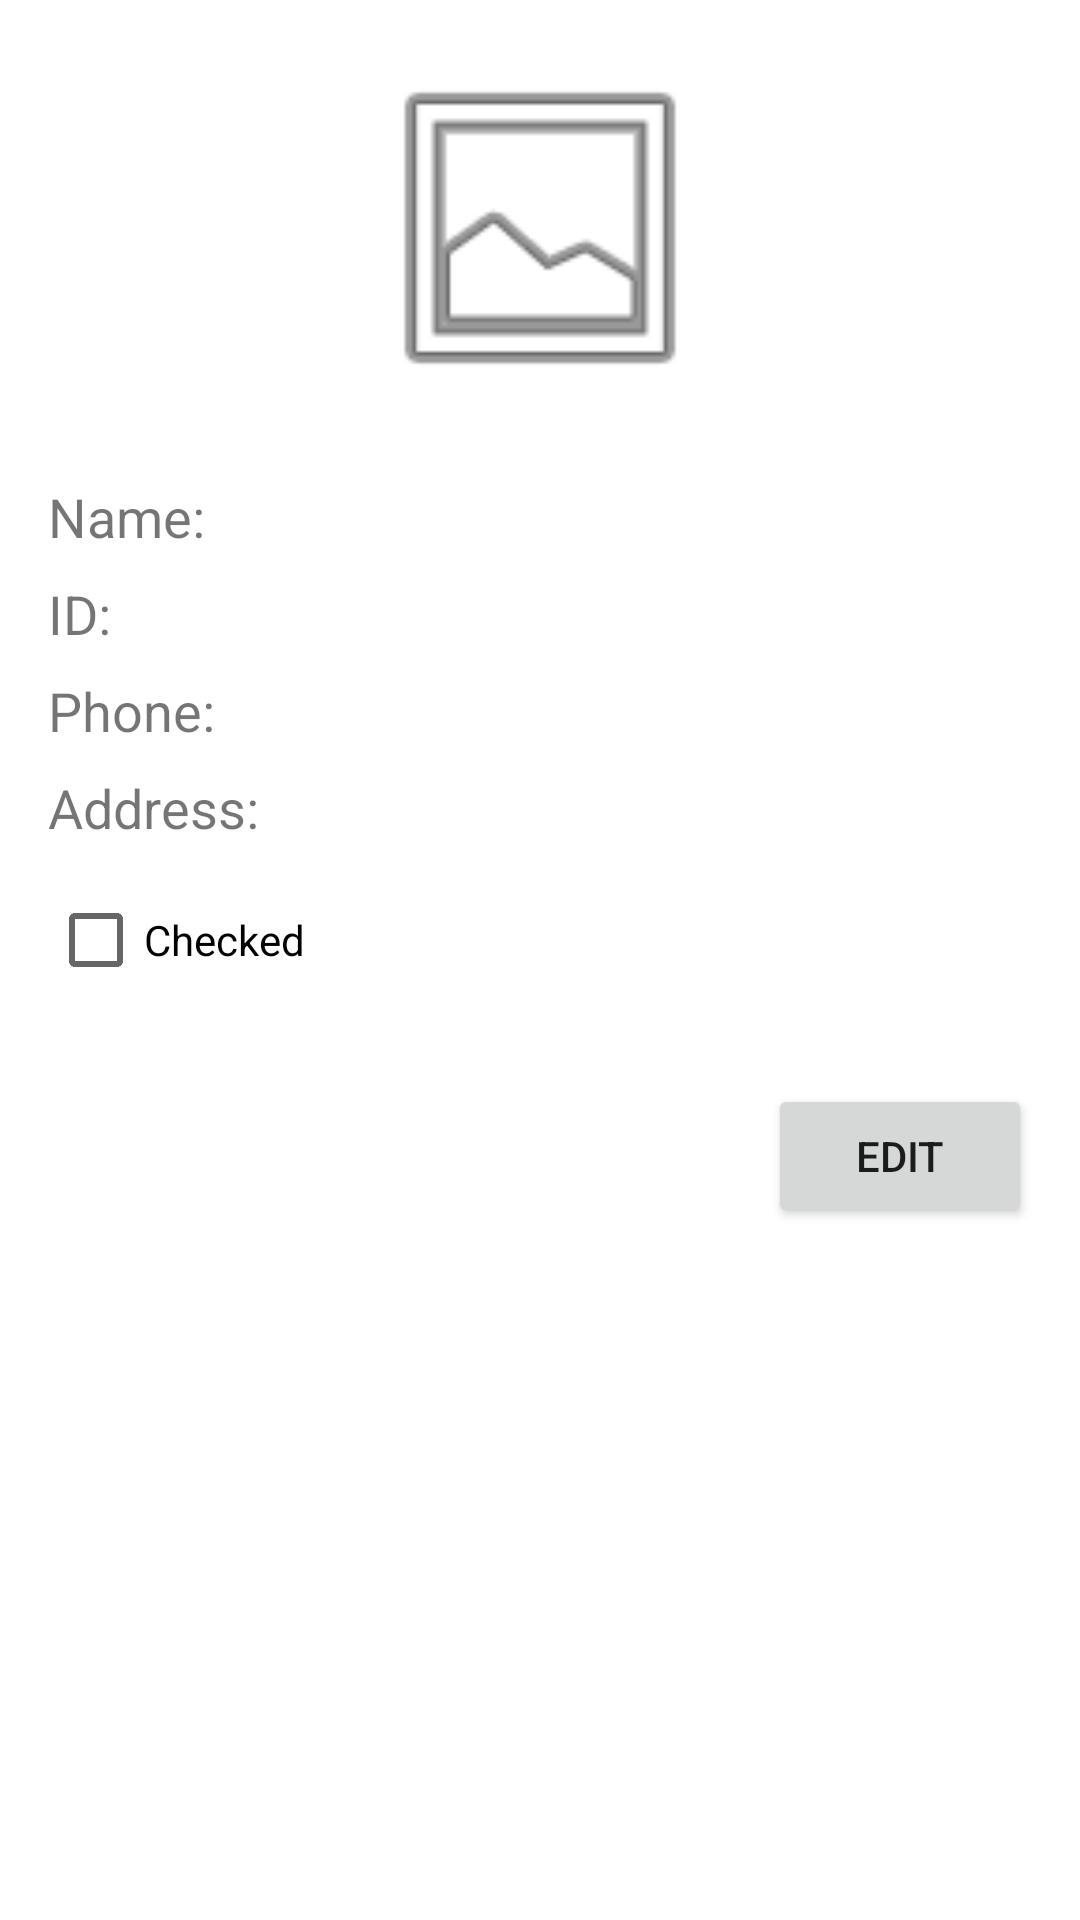

Icon bounding boxes for this 1080 × 1920 phone screenshot, format (x1, y1, x2, y2):
gallery: (404, 92, 676, 364)
